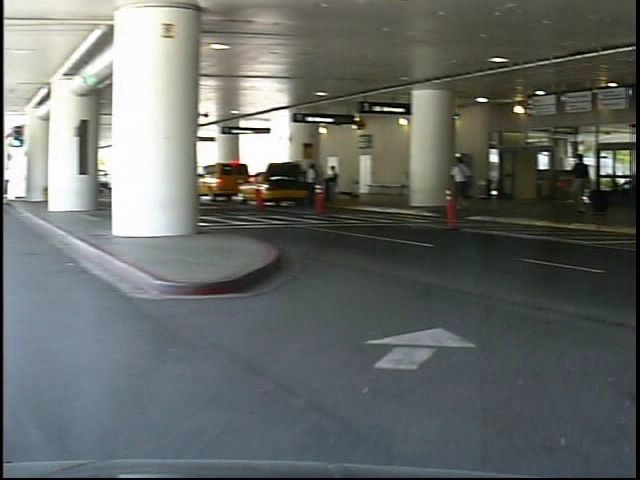person: (574, 145, 602, 221), (457, 150, 483, 215)
